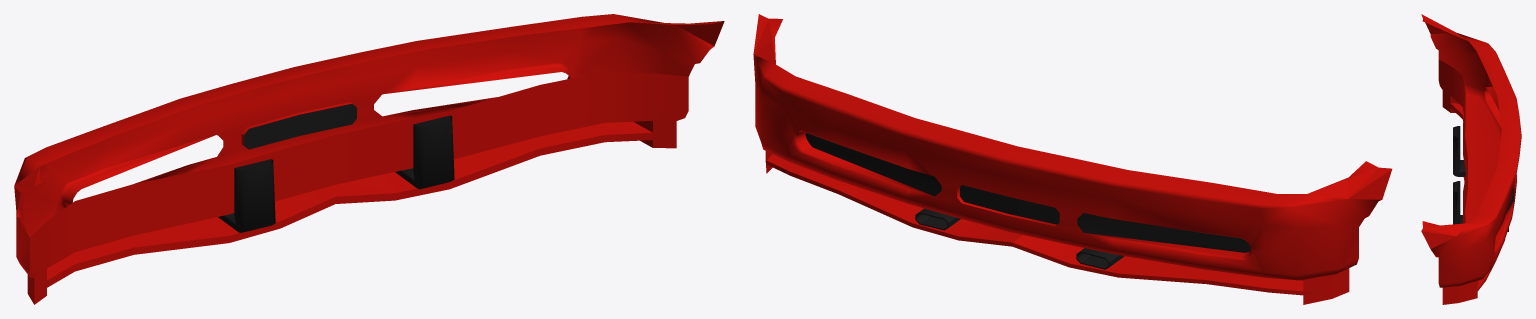
File: Classic_2_Bumper_B_3.fbx
The picture shows the model from 3 angles, left to right: view 1: azimuth 30°, elevation 25°; view 2: azimuth 150°, elevation 25°; view 3: azimuth 270°, elevation 25°; orthographic projection. The views are drawn at different scales.
Visible parts, largest first — view 1: Classic_2_Bumper_B_3; view 2: Classic_2_Bumper_B_3; view 3: Classic_2_Bumper_B_3.
Part boxes in pixels (box(x1,y1,x2,y2)): Classic_2_Bumper_B_3: box(14, 14, 724, 304); Classic_2_Bumper_B_3: box(753, 14, 1392, 304); Classic_2_Bumper_B_3: box(1421, 14, 1521, 304).
Size of the model in its own units: 311 by 57.3 by 60.86.
